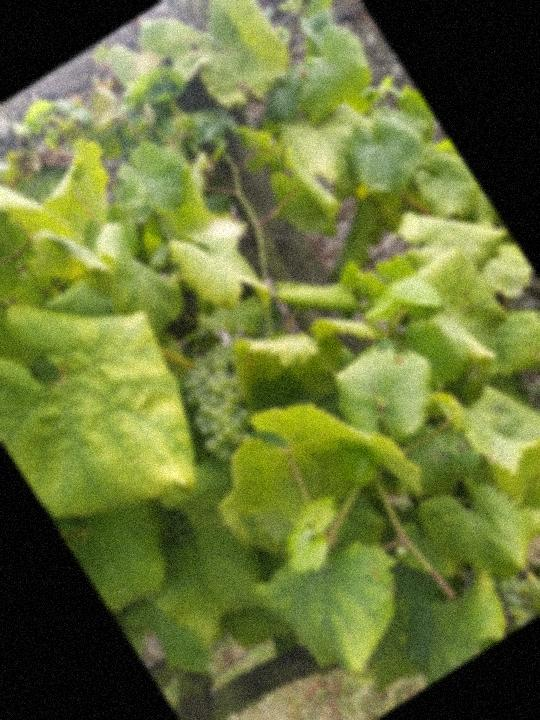grape: (160, 339, 280, 469)
